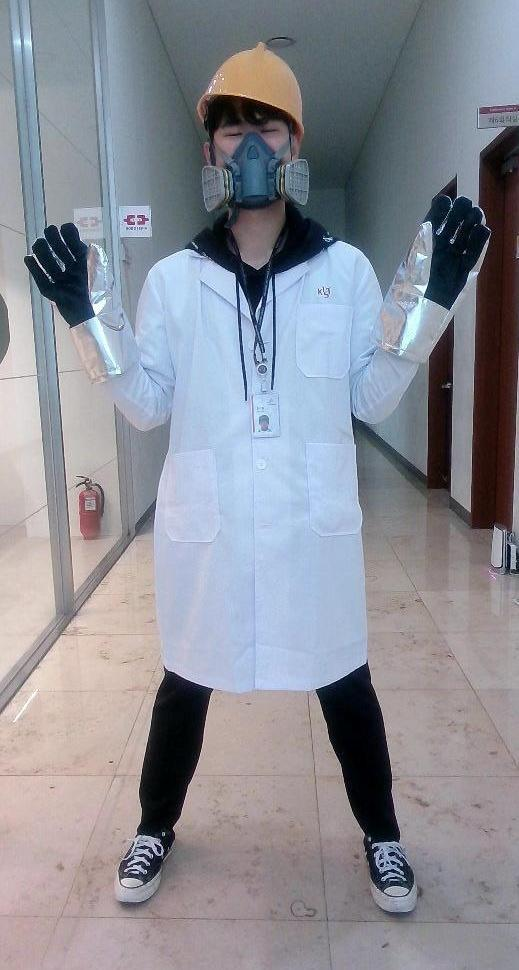lab_coat: (149, 256, 380, 684)
